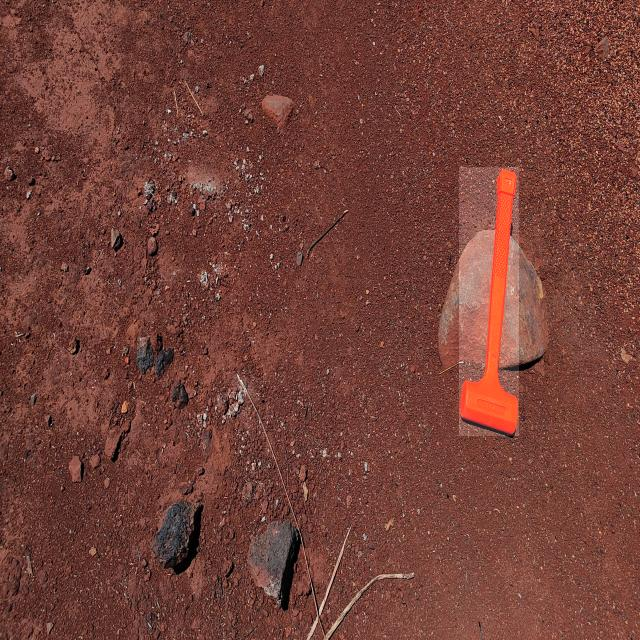Orange_hammer: (459, 167, 519, 436)
